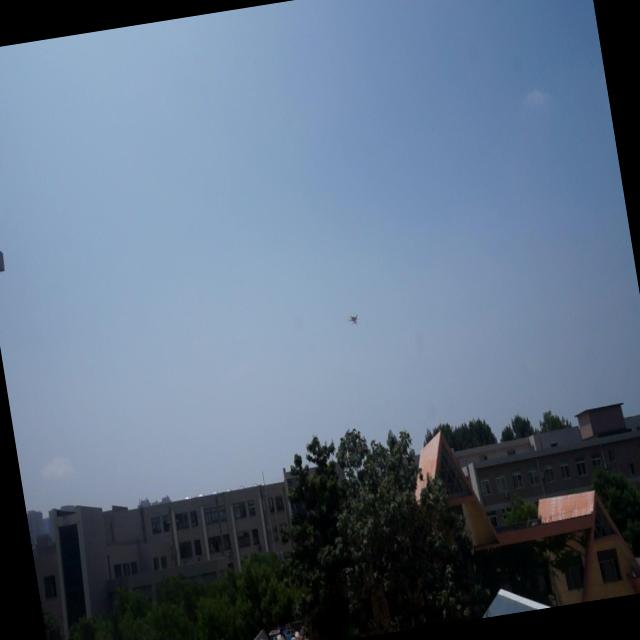drone: (346, 308, 363, 329)
